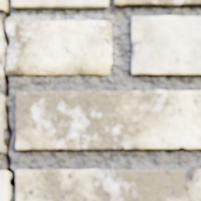brick: (16, 91, 200, 150), (16, 170, 200, 200), (132, 17, 200, 76), (12, 0, 108, 9), (115, 0, 200, 8), (0, 171, 10, 200), (0, 95, 4, 153), (0, 0, 7, 12)
broken_brick: (7, 18, 112, 76), (0, 27, 4, 78)
crack: (0, 0, 16, 198)
